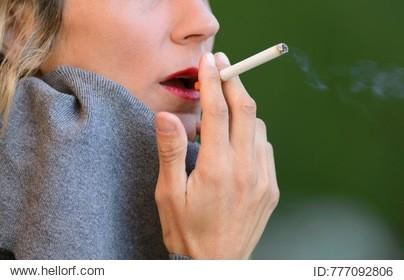Cigarette: (195, 43, 289, 90)
